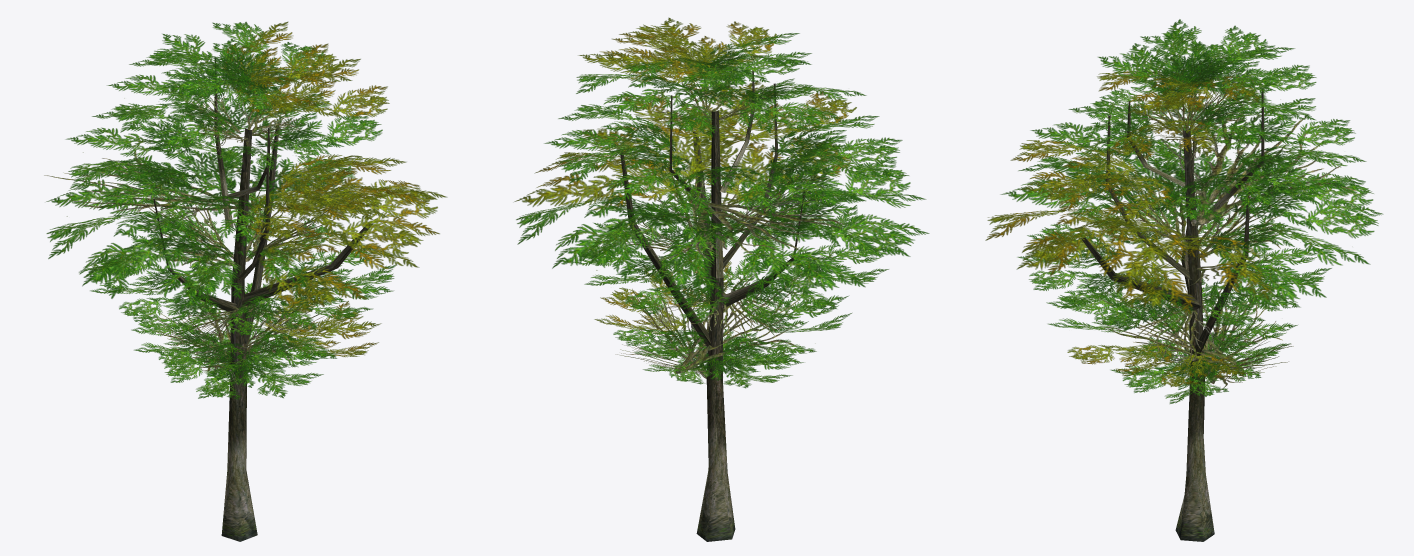
The model's file is shu4.gltf.
3 views of the same model, side by side, from view 1: azimuth 30°, elevation 25°; view 2: azimuth 150°, elevation 25°; view 3: azimuth 270°, elevation 25° (orthographic). The views are drawn at different scales.
Parts seen in each view (by area): view 1: Object099; view 2: Object099; view 3: Object099.
Part boxes in pixels (x1,y1,x2,y2): Object099: (44,21,447,541); Object099: (514,17,929,541); Object099: (985,19,1383,541).
Bounding box in the file's own units: 10.27 × 12 × 9.95.
Materials: 1 (1 with a texture image).
